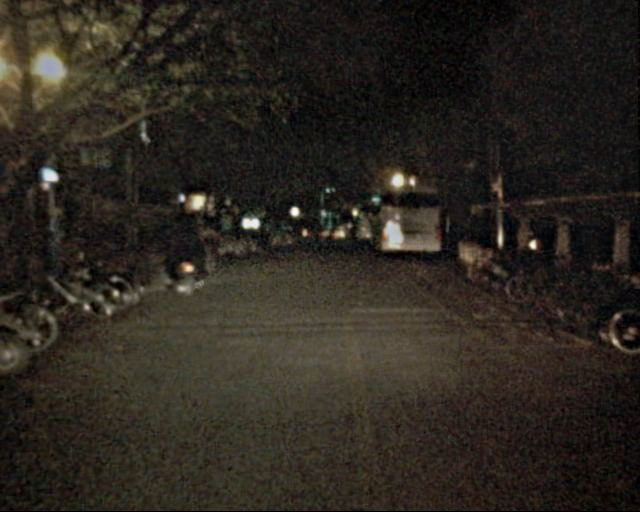person: (167, 223, 192, 284), (197, 211, 220, 268), (251, 213, 267, 253), (339, 218, 359, 243)
